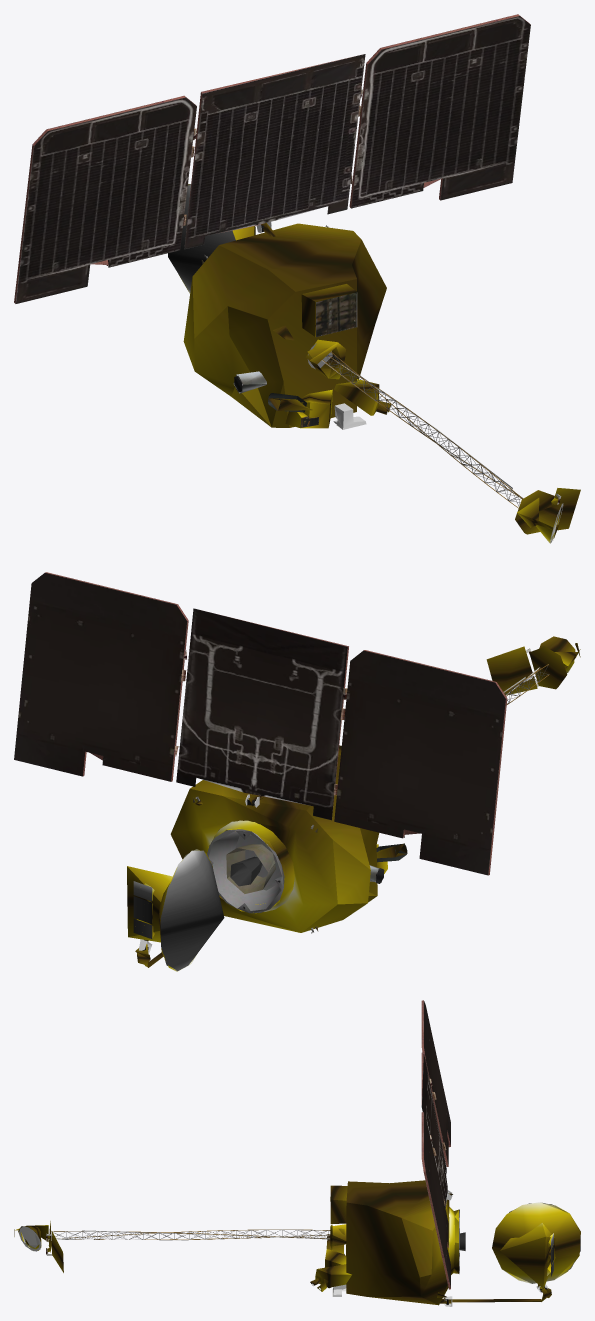
Rendered from odyssey_lod2.glb.
The picture shows the model from 3 angles, top to bottom: view 1: azimuth 30°, elevation 25°; view 2: azimuth 150°, elevation 25°; view 3: azimuth 270°, elevation 25°; orthographic projection. The views are drawn at different scales.
Parts seen in each view (by area): view 1: odyssey_lod2; view 2: odyssey_lod2; view 3: odyssey_lod2.
Part boxes in pixels (x1,y1,x2,y2): odyssey_lod2: (14, 14, 580, 543); odyssey_lod2: (14, 572, 580, 971); odyssey_lod2: (14, 1000, 580, 1306).
Bounding box in the file's own units: 5.65 × 3.35 × 8.13.
10 materials, 8 textured.
